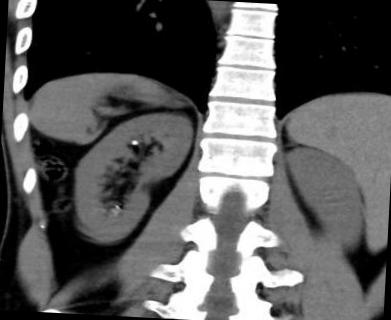Tas_Var: (132, 138, 140, 146), (114, 204, 121, 210)
